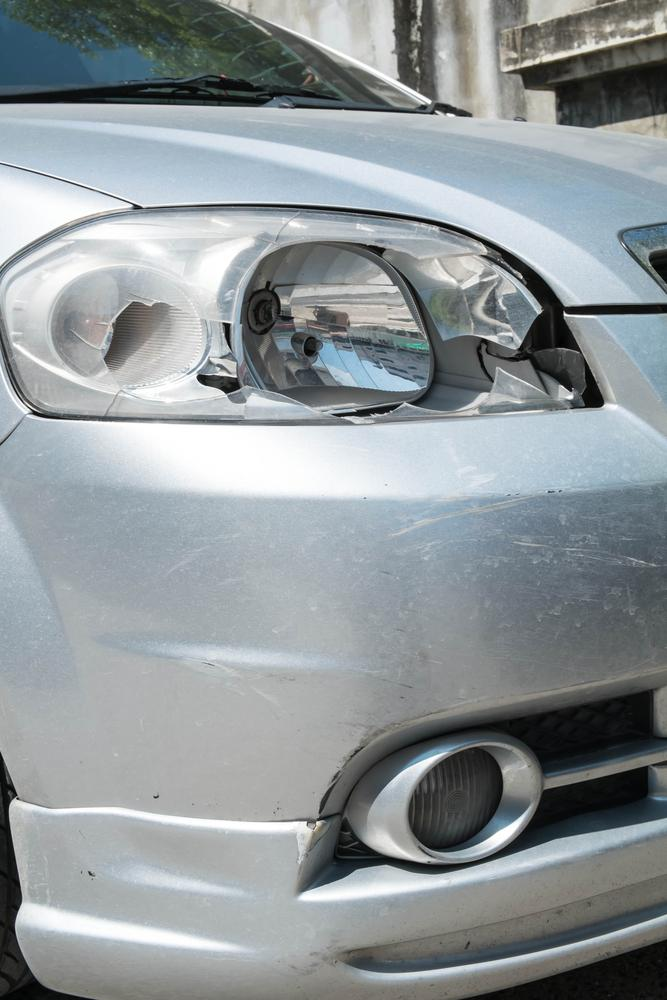lamp broken: (0, 207, 608, 426)
scratch: (307, 466, 667, 834)
